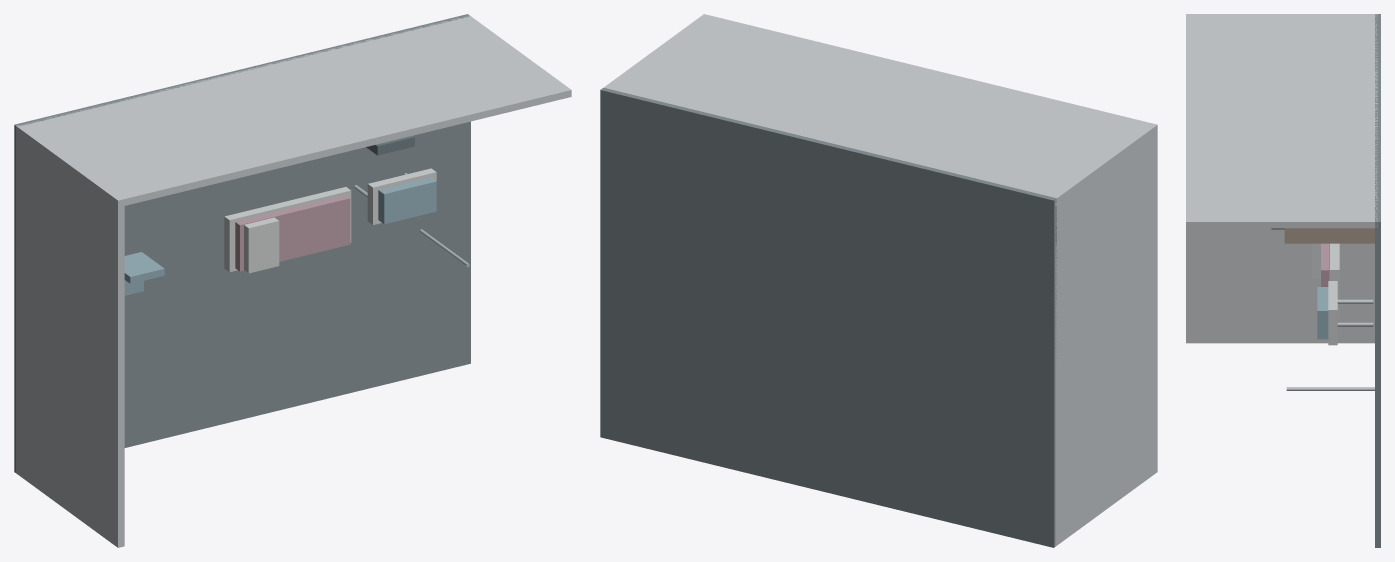
The model's file is maternity-room-high.glb.
The picture shows the model from 3 angles, left to right: view 1: azimuth 30°, elevation 25°; view 2: azimuth 150°, elevation 25°; view 3: azimuth 270°, elevation 25°; orthographic projection. The views are drawn at different scales.
Visible parts, largest first — view 1: floor, wall_back, wall_left, maternity_mattress, bassinet_pad, maternity_bed, pillow, newborn_bassinet, chair_back; view 2: floor, wall_back, wall_left; view 3: wall_back, wall_left, floor, maternity_cabinet, newborn_bassinet, bassinet_pad, maternity_bed, maternity_mattress, iv_stand, pillow.
Part boxes in pixels (left/top/right/bottom): floor: left=14, top=14, right=470, bottom=472; wall_back: left=19, top=15, right=571, bottom=207; wall_left: left=16, top=125, right=124, bottom=547; maternity_mattress: left=235, top=195, right=350, bottom=271; bassinet_pad: left=378, top=177, right=436, bottom=224; maternity_bed: left=224, top=187, right=351, bottom=272; pillow: left=244, top=217, right=279, bottom=273; newborn_bassinet: left=367, top=168, right=436, bottom=224; chair_back: left=124, top=252, right=164, bottom=283; floor: left=600, top=87, right=1056, bottom=547; wall_back: left=604, top=14, right=1157, bottom=206; wall_left: left=1051, top=123, right=1157, bottom=546; wall_back: left=1186, top=14, right=1377, bottom=228; wall_left: left=1186, top=14, right=1377, bottom=343; floor: left=1375, top=14, right=1380, bottom=547; maternity_cabinet: left=1284, top=228, right=1374, bottom=243; newborn_bassinet: left=1328, top=281, right=1337, bottom=345; bassinet_pad: left=1317, top=287, right=1328, bottom=339; maternity_bed: left=1330, top=243, right=1339, bottom=318; maternity_mattress: left=1321, top=243, right=1329, bottom=286; iv_stand: left=1286, top=387, right=1374, bottom=390; pillow: left=1312, top=243, right=1320, bottom=278.
Bounding box in the file's own units: 8.2 × 6 × 3.25.
